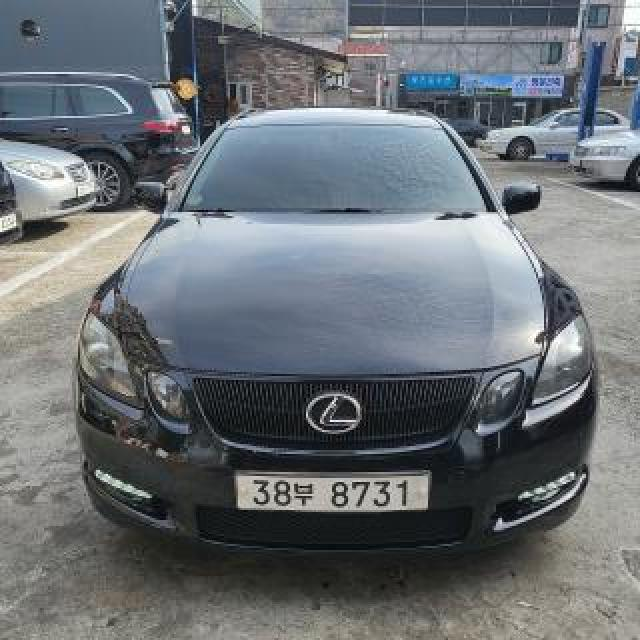EV_plate: (404, 68, 460, 93)
car: (69, 99, 608, 568)
illegal_plate: (230, 464, 433, 522)
